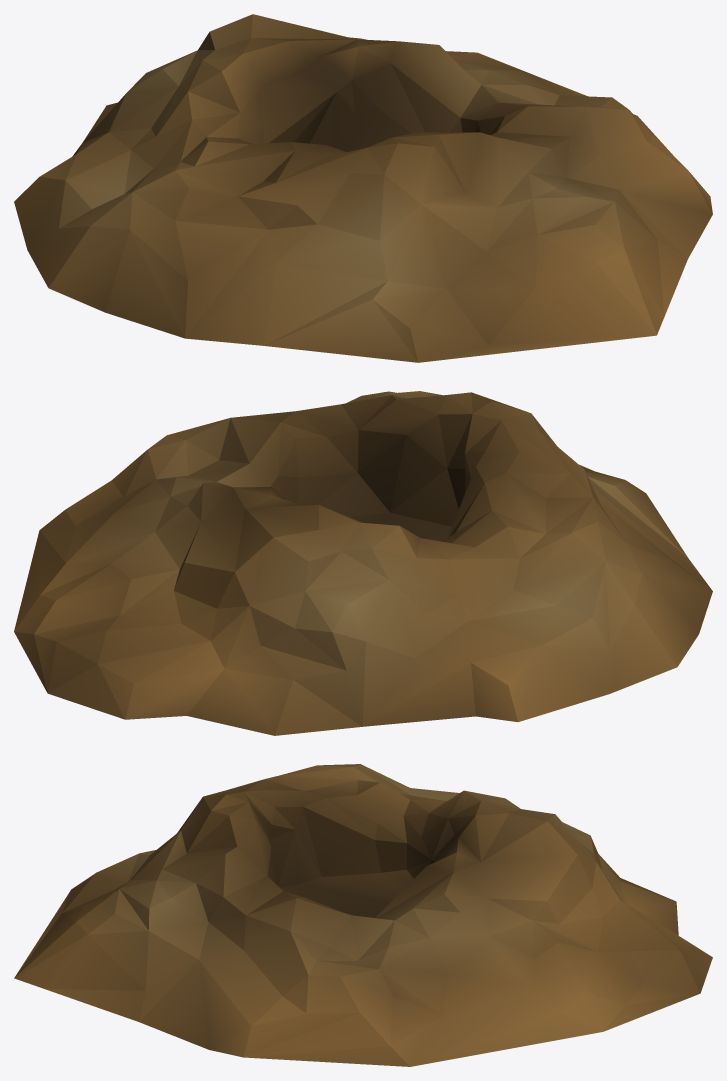
The model's file is sandhaufen_1.fbx.
3 views of the same model, one above another, from view 1: azimuth 30°, elevation 25°; view 2: azimuth 150°, elevation 25°; view 3: azimuth 270°, elevation 25° (orthographic). The views are drawn at different scales.
Visible parts, largest first — view 1: sandhaufen; view 2: sandhaufen; view 3: sandhaufen.
Part boxes in pixels (<box>): sandhaufen: <box>14,14,712,362</box>; sandhaufen: <box>14,391,712,735</box>; sandhaufen: <box>14,764,712,1066</box>.
Size of the model in its own units: 238 by 51.72 by 264.
